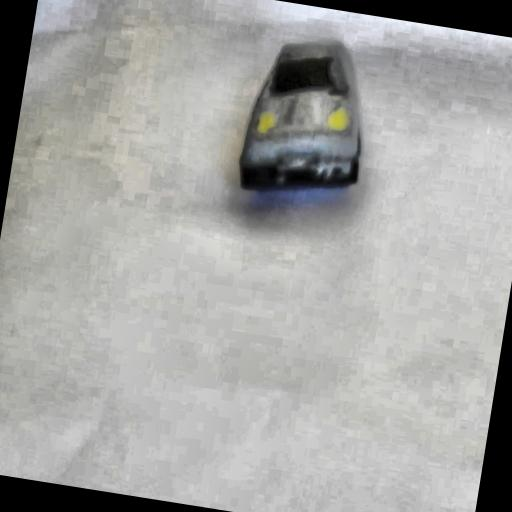normal_car: (228, 26, 382, 209)
